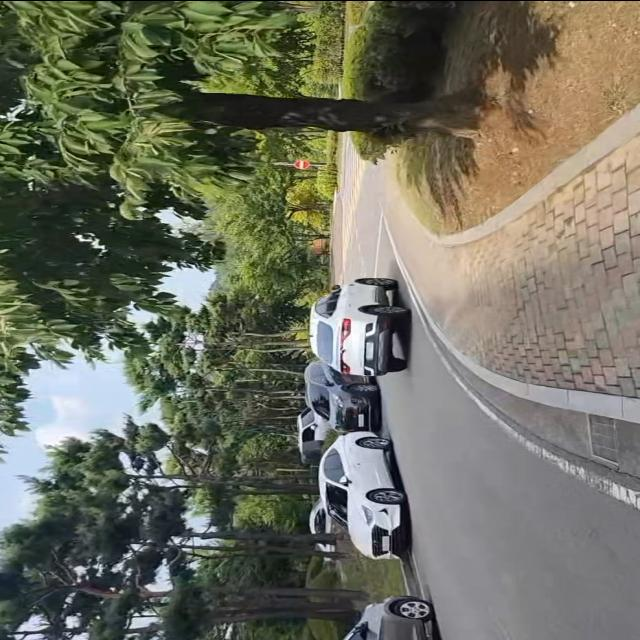obstacle: (314, 429, 425, 561), (310, 270, 420, 374), (301, 355, 383, 432), (323, 593, 446, 640)
road: (341, 156, 640, 640)
sidewalk: (376, 99, 640, 425)
